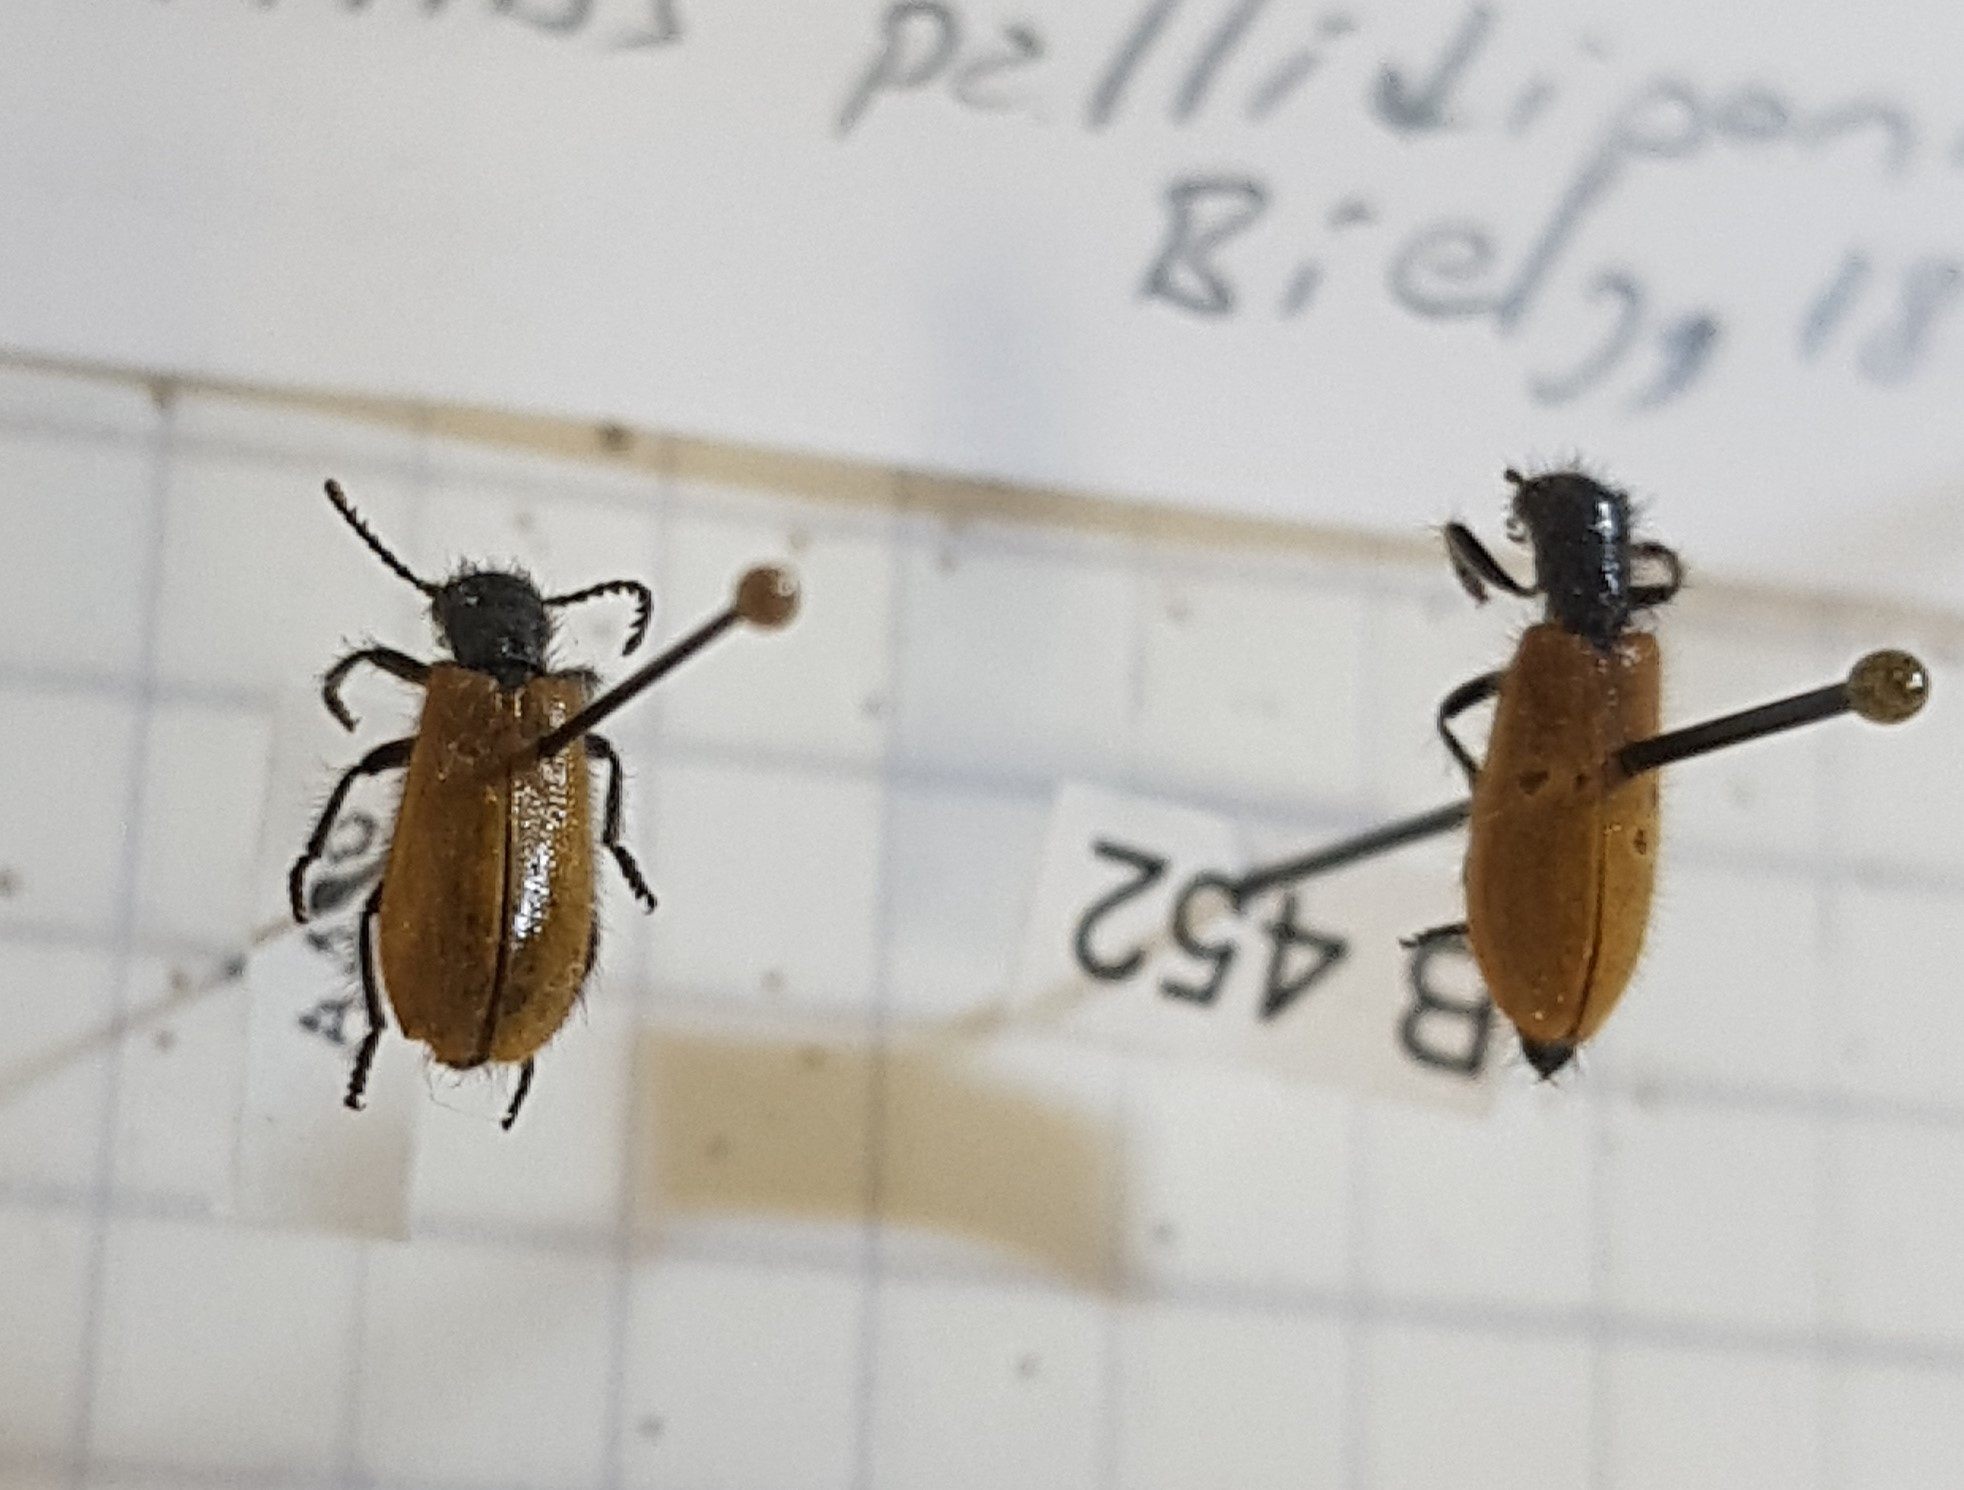tillus_pallidipennis: (290, 463, 670, 1141), (1433, 444, 1704, 1088)
